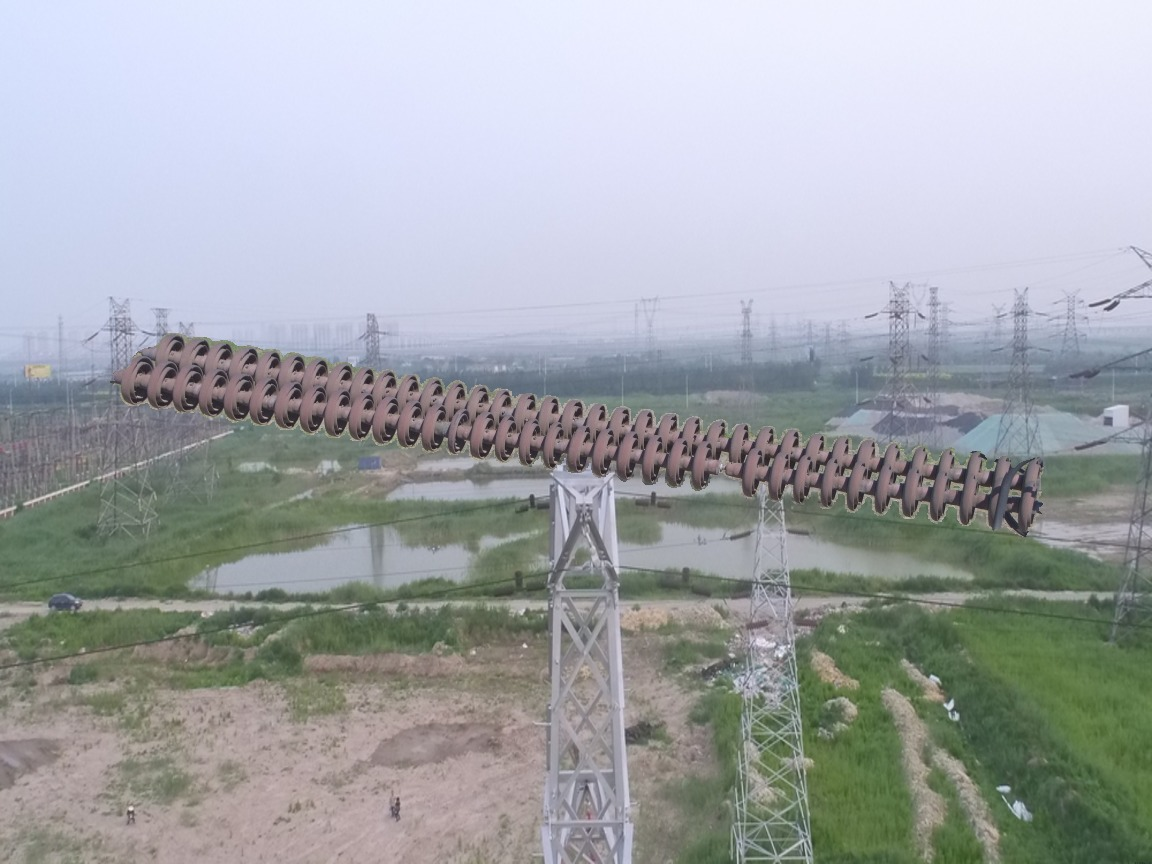defect: (686, 441, 768, 496)
